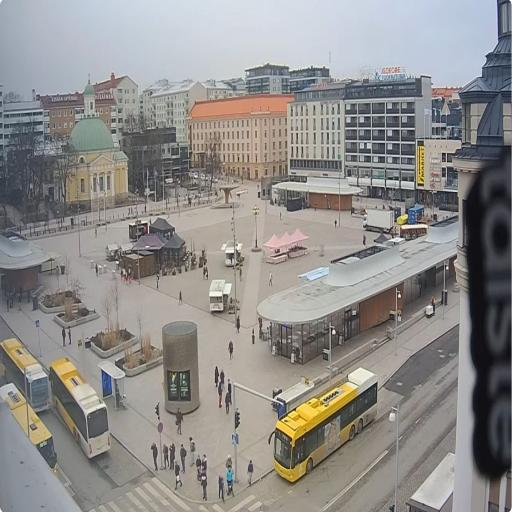bus: (266, 368, 380, 485), (48, 356, 112, 462), (2, 381, 58, 475), (2, 334, 54, 420)
car: (210, 175, 219, 184), (200, 174, 208, 182), (190, 172, 198, 180)
delivery: (362, 207, 396, 235)
